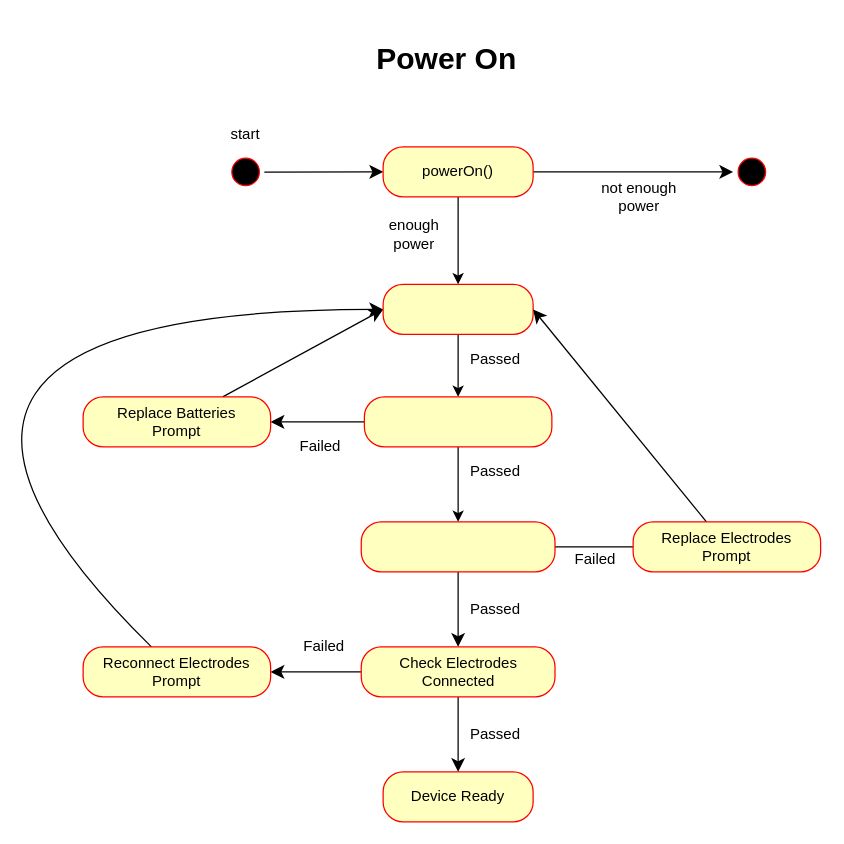
This 844x844 diagram has some shape labels left out. The centre of each missing label's shape, as x and y in pixels:
check battery capacity: point 457,421
Check If Electrodes Viable: point 457,546
start self test: point 457,308
